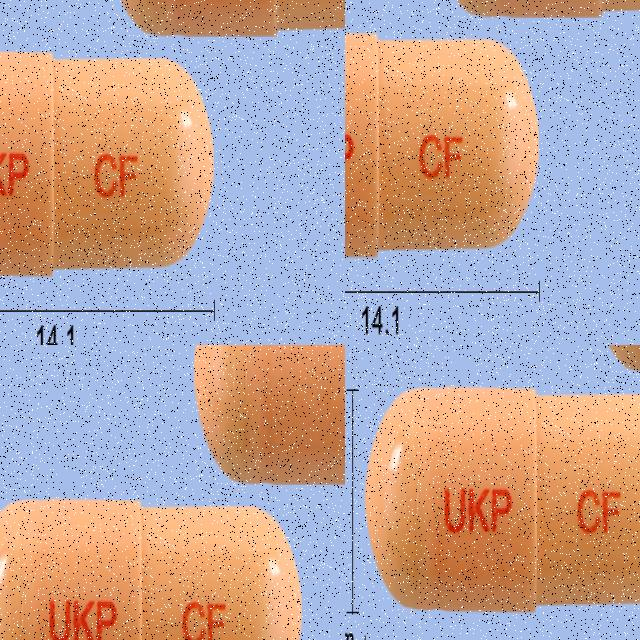Durova - 20mg: (166, 0, 345, 275), (0, 0, 129, 276)
Hepsevir: (154, 569, 293, 640)
Lenomid: (493, 0, 640, 262), (345, 0, 453, 263)
Unilevo Tab: (363, 382, 640, 613)
